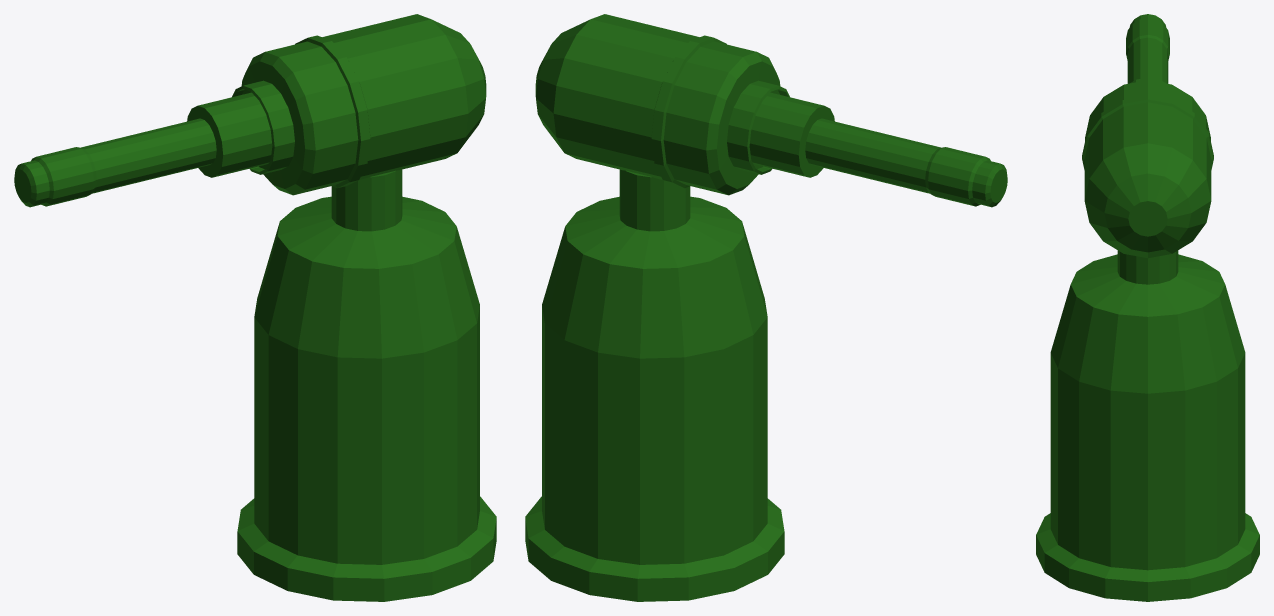
Rendered from Turret.fbx.
3 views of the same model, side by side, from view 1: azimuth 30°, elevation 25°; view 2: azimuth 150°, elevation 25°; view 3: azimuth 270°, elevation 25° (orthographic). The views are drawn at different scales.
Visible parts, largest first — view 1: Cylinder, Cylinder.001; view 2: Cylinder, Cylinder.001; view 3: Cylinder, Cylinder.001.
Boxes of the visible parts, <box> form: Cylinder: <box>237,169,496,601</box>; Cylinder.001: <box>14,14,486,207</box>; Cylinder: <box>525,169,784,601</box>; Cylinder.001: <box>535,14,1007,207</box>; Cylinder: <box>1036,250,1259,601</box>; Cylinder.001: <box>1082,14,1213,258</box>.
Size of the model in its own units: 601 by 646 by 298.
